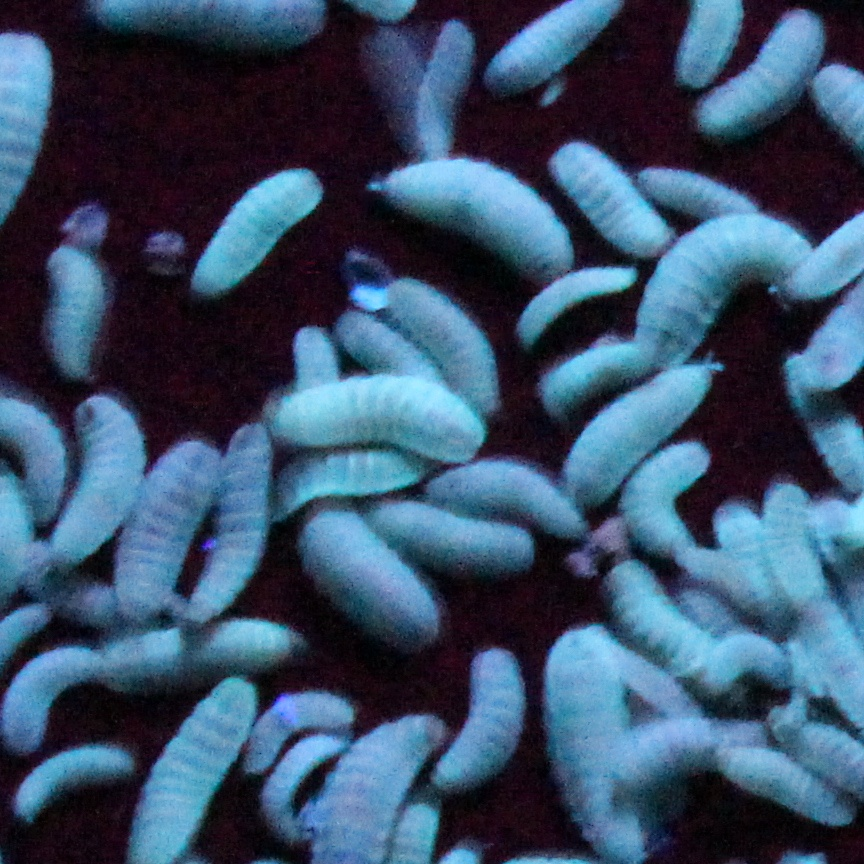larve: (635, 219, 817, 365), (565, 353, 724, 508), (381, 151, 574, 267), (295, 501, 456, 633), (110, 440, 224, 621), (181, 162, 326, 301), (279, 374, 483, 465), (192, 419, 276, 631), (49, 392, 142, 571), (381, 274, 499, 410), (608, 560, 726, 685), (442, 642, 538, 792), (695, 15, 822, 126), (545, 135, 663, 249), (601, 442, 722, 553), (597, 706, 731, 806), (429, 451, 576, 537), (1, 642, 117, 749), (279, 444, 433, 521), (374, 494, 540, 565), (722, 735, 851, 826), (756, 471, 831, 619), (256, 733, 358, 837), (13, 740, 133, 828), (238, 690, 356, 778), (520, 262, 638, 337), (713, 503, 792, 615), (415, 15, 476, 160), (329, 308, 440, 383), (538, 342, 645, 410), (54, 240, 104, 381), (647, 158, 758, 221), (706, 628, 797, 703), (195, 619, 301, 660), (297, 321, 333, 385)
